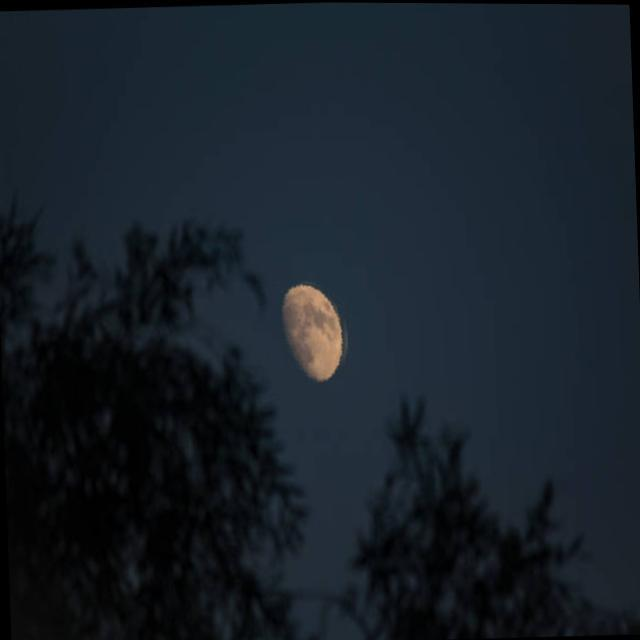moon: (268, 272, 356, 389)
